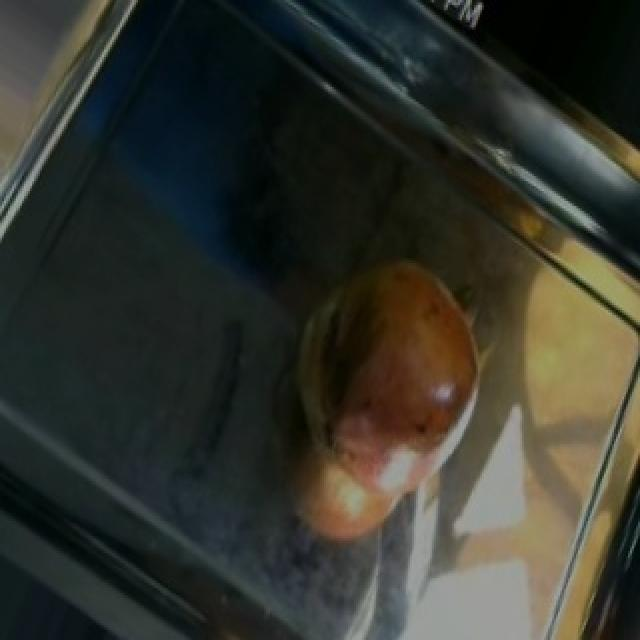fruit: (294, 231, 508, 486)
